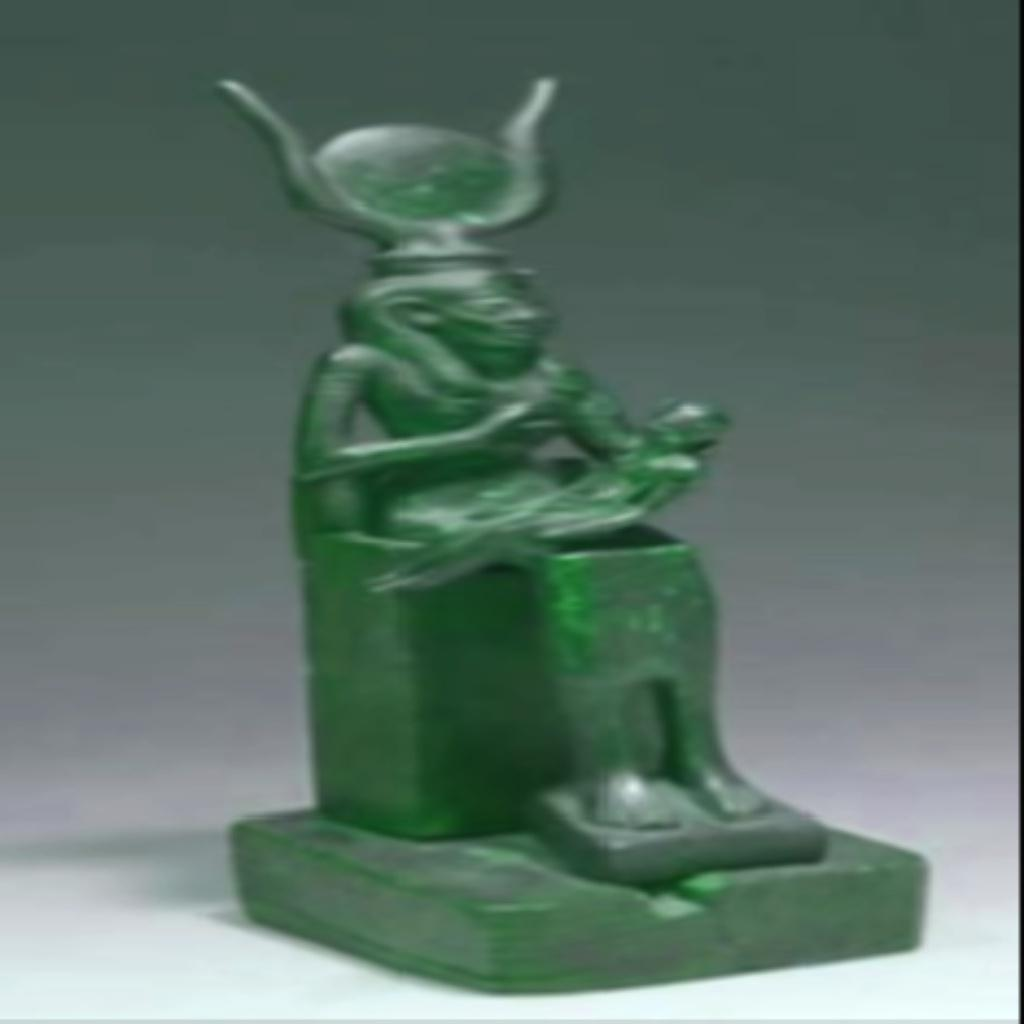Isis with her child: (192, 68, 932, 992)
